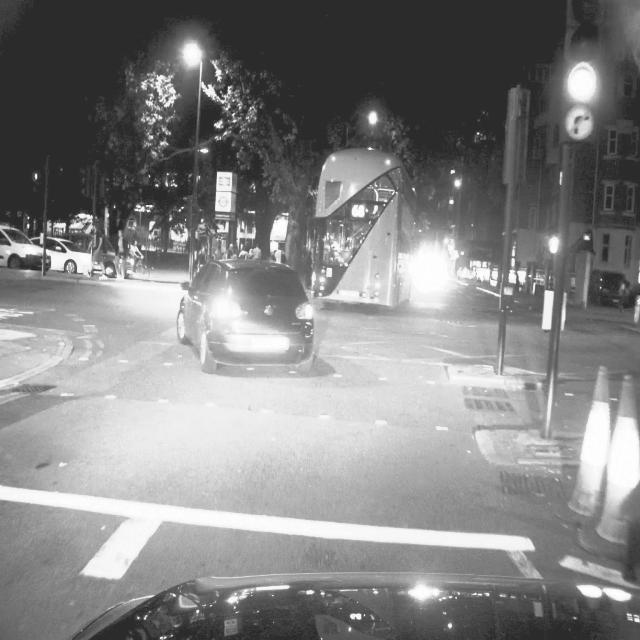Light: (561, 0, 603, 103), (502, 87, 532, 185), (30, 170, 42, 210)
Sign: (558, 104, 598, 145), (543, 290, 567, 330), (517, 230, 537, 262)
